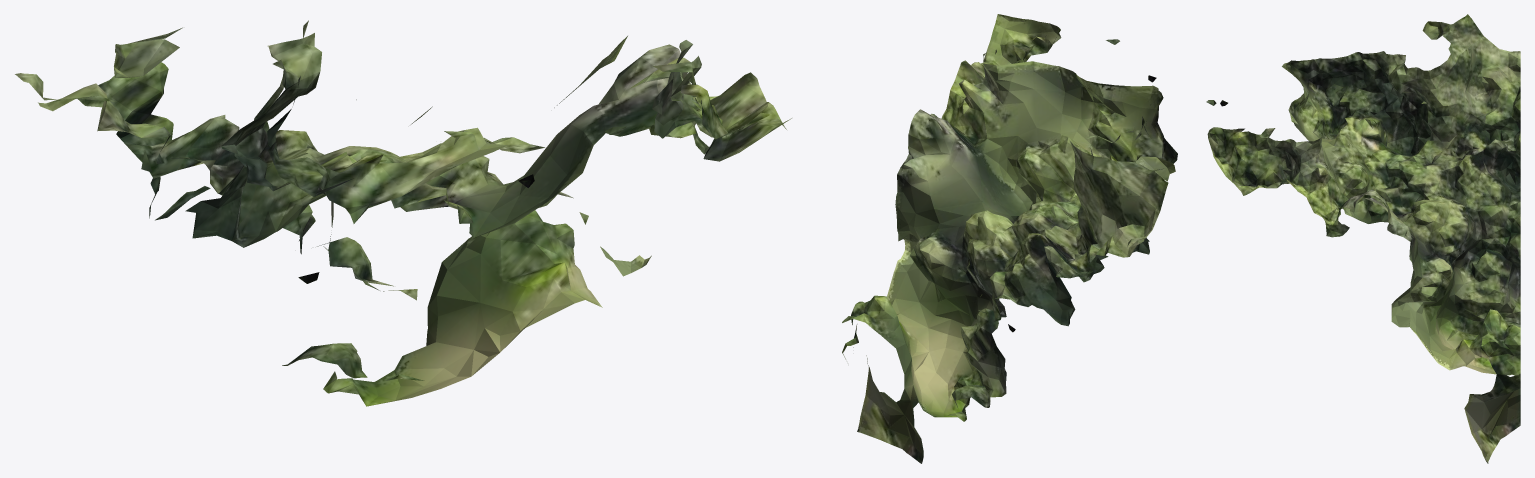
3 renders of one model, left to right at view 1: azimuth 30°, elevation 25°; view 2: azimuth 150°, elevation 25°; view 3: azimuth 270°, elevation 25°, orthographic. The views are drawn at different scales.
Size of the model in its own units: 52.22 by 52.22 by 48.53.
Materials: 4 (4 with a texture image).
